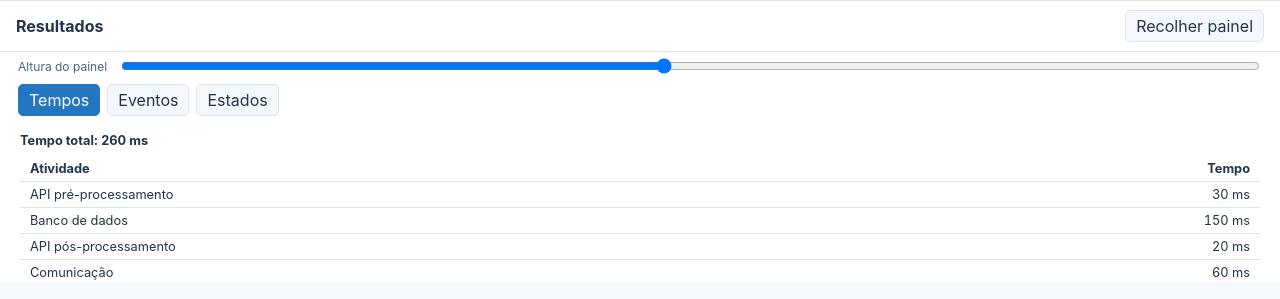
Scenario: painel de resultados › alterna abas, inspeciona evento e preserva relógio
Click the tab "Eventos" at (148, 100), box [107, 84, 190, 116]
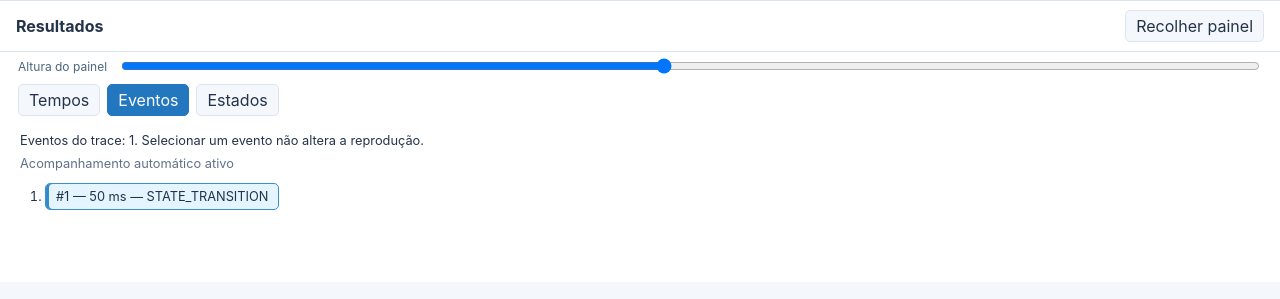
Click the button "#1 — 50 ms — STATE_TRANSITION" at (162, 196), box [45, 183, 279, 210]
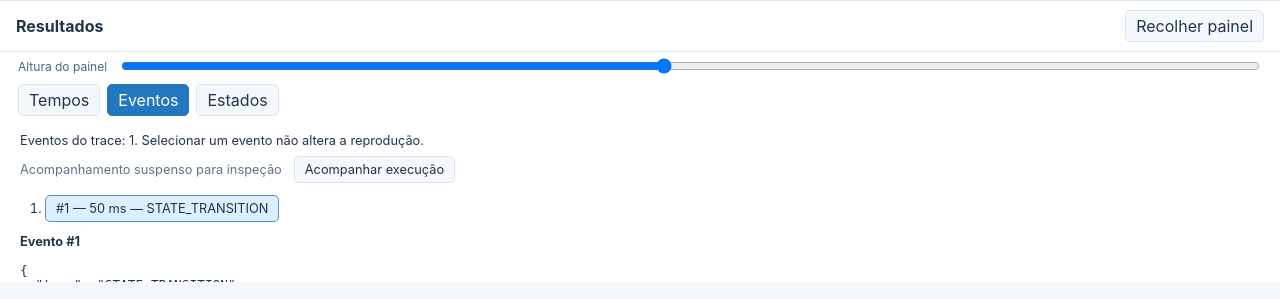
Click the tab "Estados" at (238, 100), box [196, 84, 279, 116]
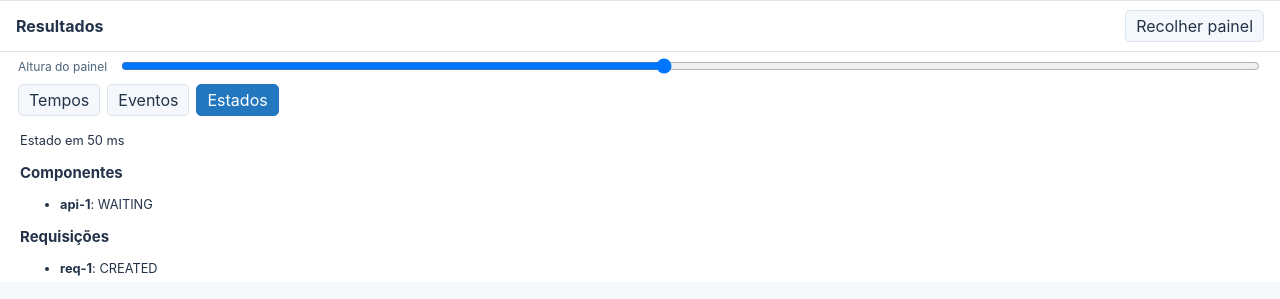
Check: the list item "api-1" shows "WAITING", box [98, 197, 153, 212]
